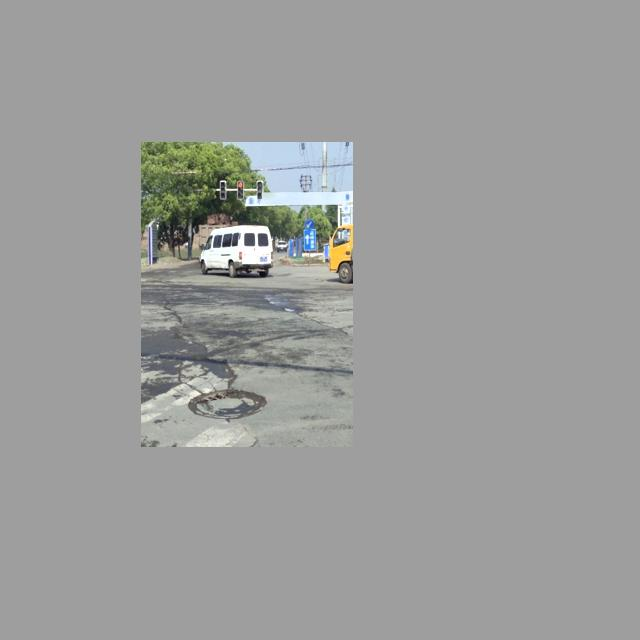broke: (188, 387, 267, 419)
